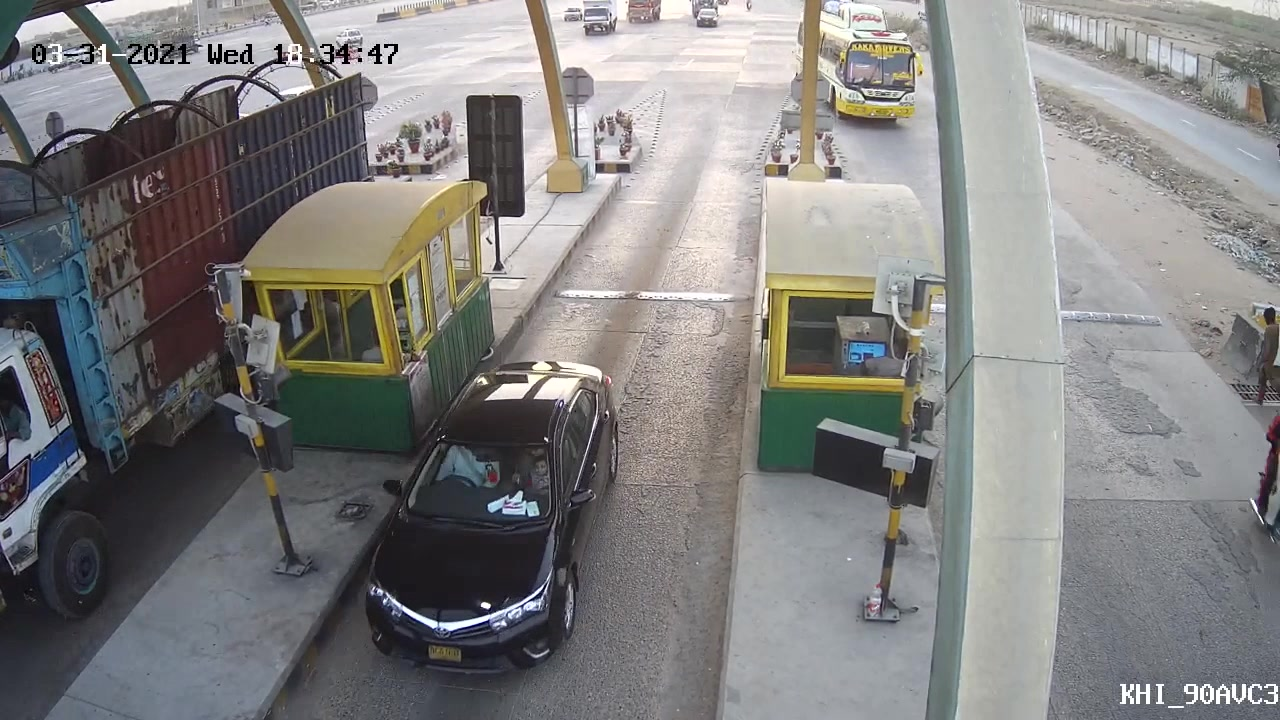F1: (364, 356, 624, 684)
